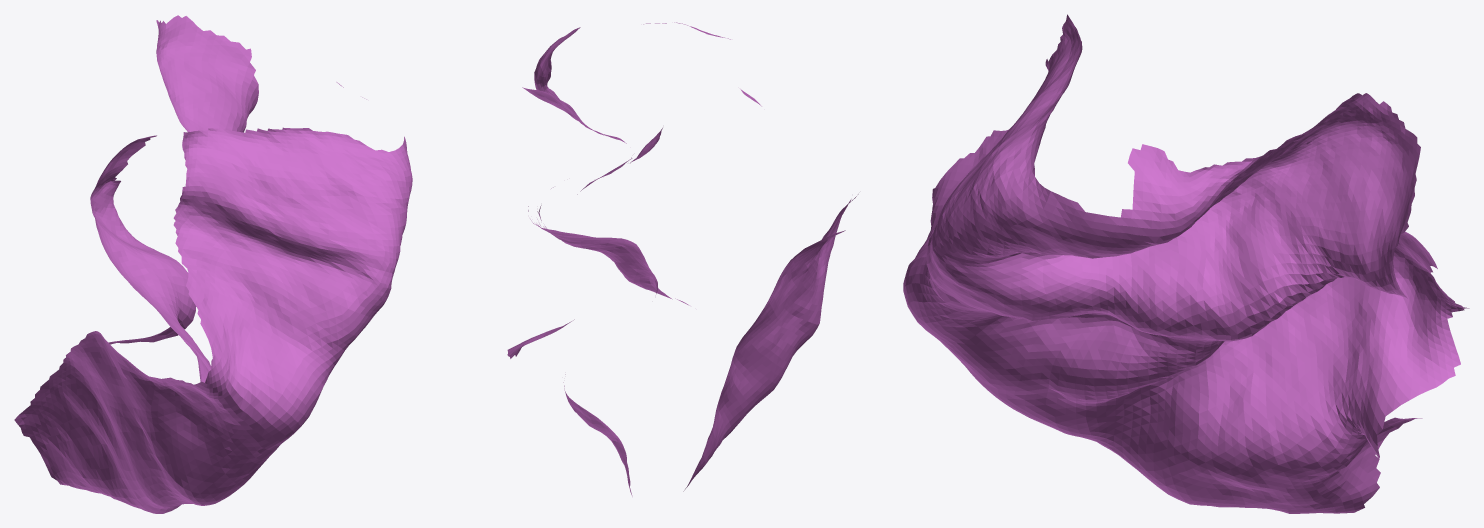
The model's file is rh_inferiorparietal.glb.
3 renders of one model, left to right at view 1: azimuth 30°, elevation 25°; view 2: azimuth 150°, elevation 25°; view 3: azimuth 270°, elevation 25°, orthographic. The views are drawn at different scales.
Visible parts, largest first — view 1: world; view 2: world; view 3: world.
Boxes of the visible parts, box(x1,y1,x2,y2) form: world: box(14, 15, 412, 513); world: box(507, 22, 858, 496); world: box(903, 14, 1469, 513).
Size of the model in its own units: 30.65 by 43.69 by 45.76.
